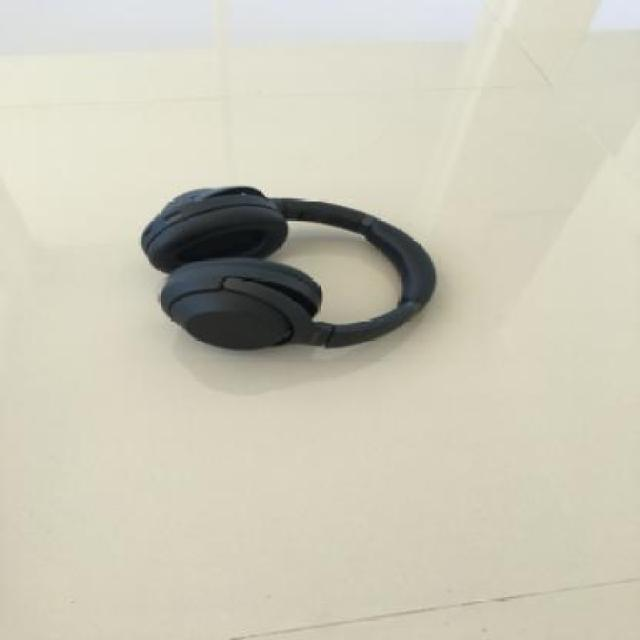earphone: (145, 143, 465, 372)
